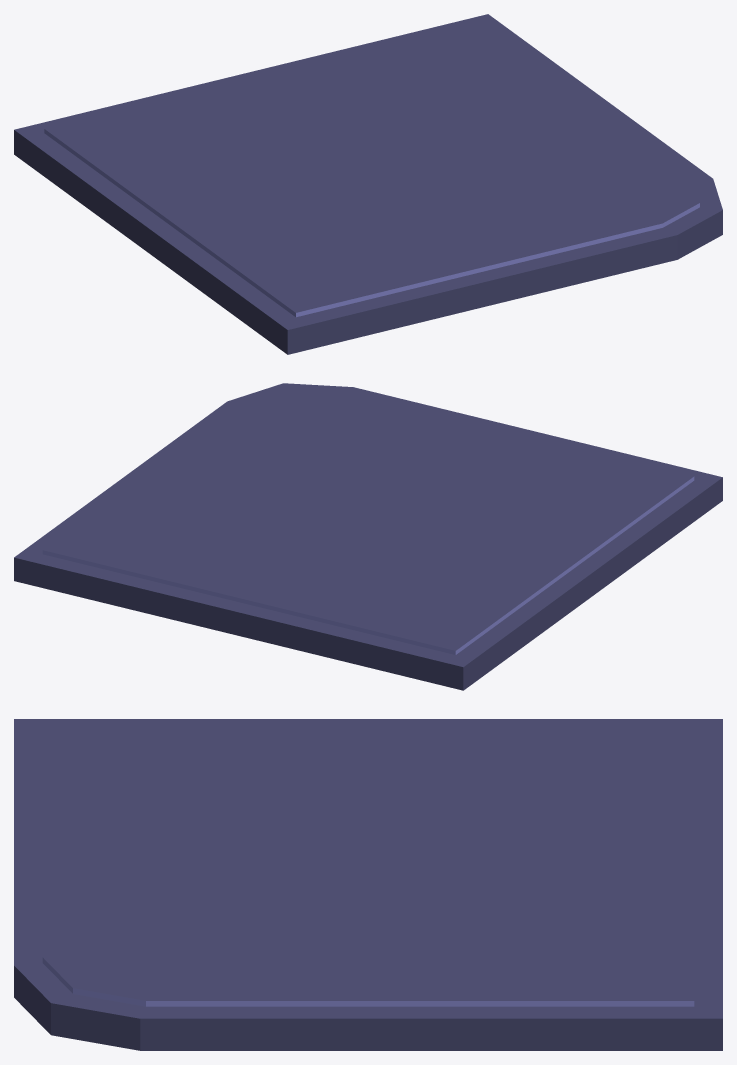
The model's file is Floor_Down_Left_Corner.fbx.
The picture shows the model from 3 angles, top to bottom: view 1: azimuth 30°, elevation 25°; view 2: azimuth 150°, elevation 25°; view 3: azimuth 270°, elevation 25°; orthographic projection. The views are drawn at different scales.
Visible parts, largest first — view 1: Floor_Corner_UR; view 2: Floor_Corner_UR; view 3: Floor_Corner_UR.
Part boxes in pixels (left/top/right/bottom): Floor_Corner_UR: left=14, top=14, right=722, bottom=354; Floor_Corner_UR: left=14, top=383, right=722, bottom=690; Floor_Corner_UR: left=14, top=719, right=722, bottom=1050.
Bounding box in the file's own units: 2 × 0.1177 × 2.
